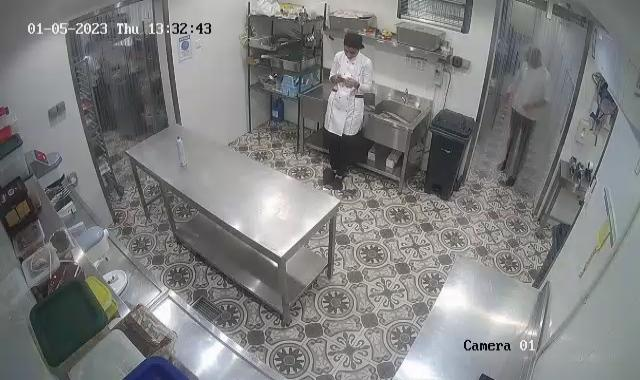no_hairnet: (341, 29, 366, 55)
